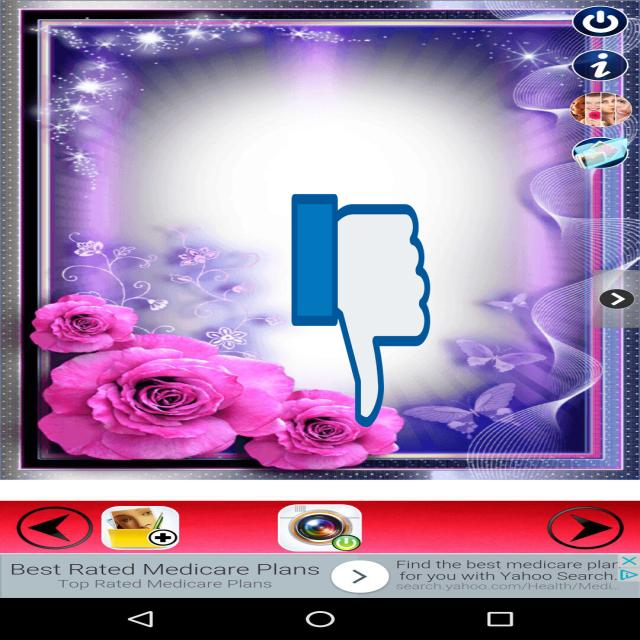obstruction: (292, 189, 430, 432)
